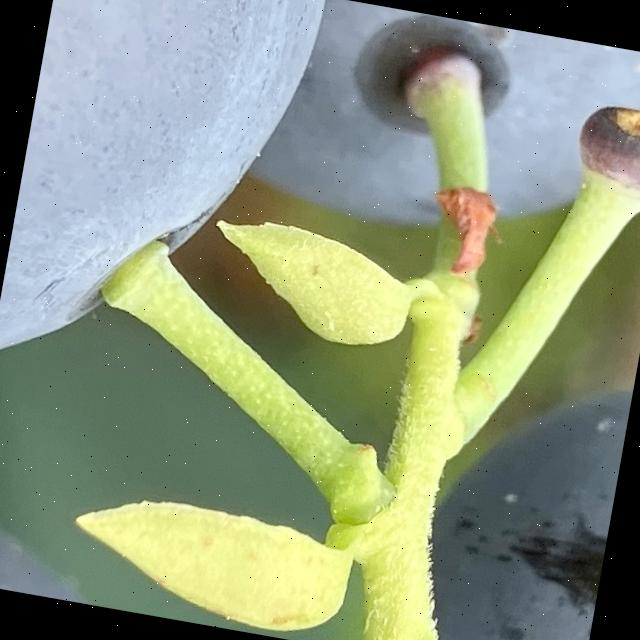Blueberries: (83, 0, 640, 279), (0, 0, 329, 450)
